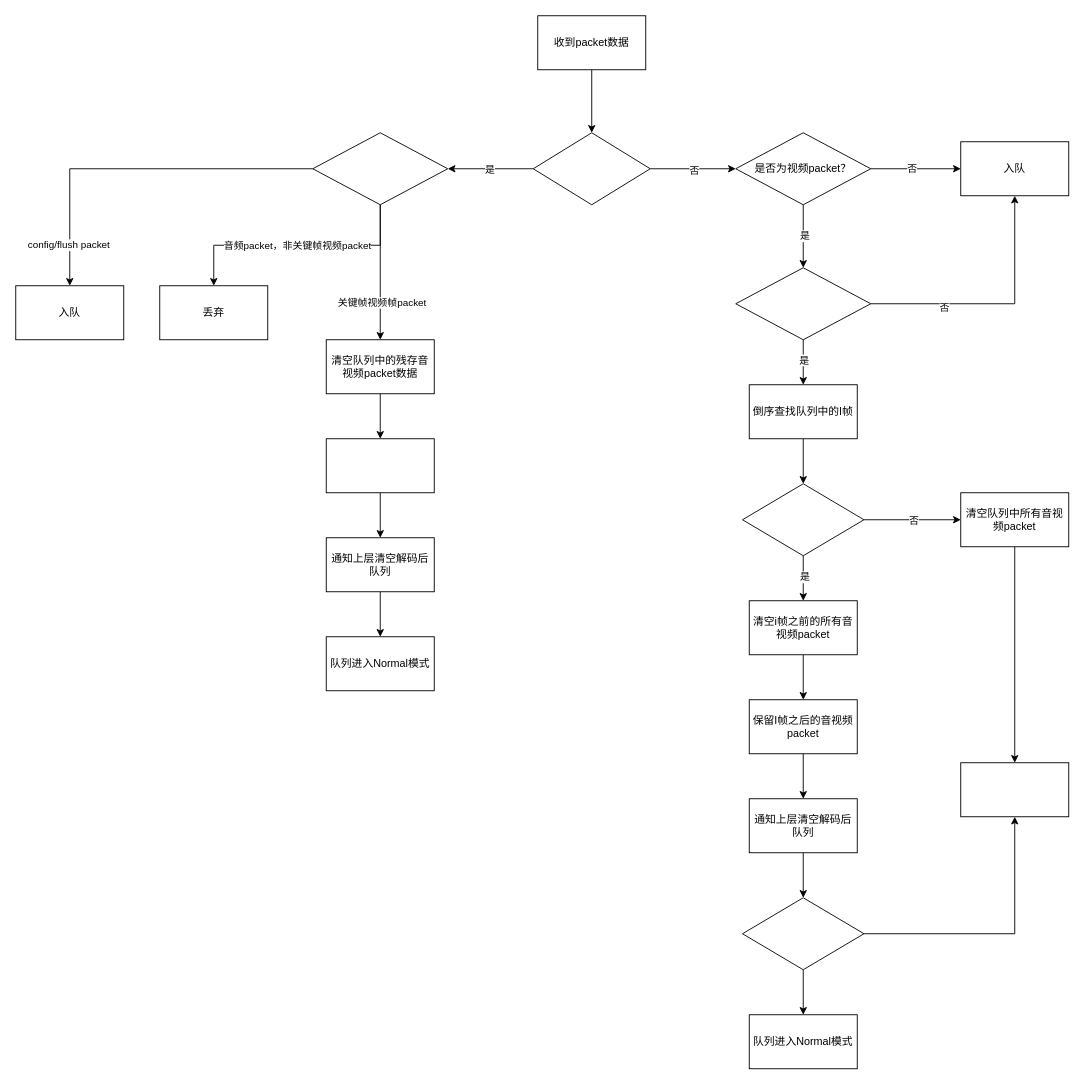
This 1085x1085 diagram has some shape labels left out. The centre of each missing label's shape, as x and y in pixels:
"判断packet类型" goes at (380,168).
"剩余队列缓存时长大于1000ms?？" goes at (803,933).
"当前队列是否处于 WaitingForKeyFrame 中？" goes at (591,168).
"插入音视频flush" goes at (379,465).
"是否找到I帧？" goes at (803,519).
"队列进入 WaitingForKeyFrame模式" goes at (1014,789).
"预计队列缓存时长大于1000ms?" goes at (803,303).
